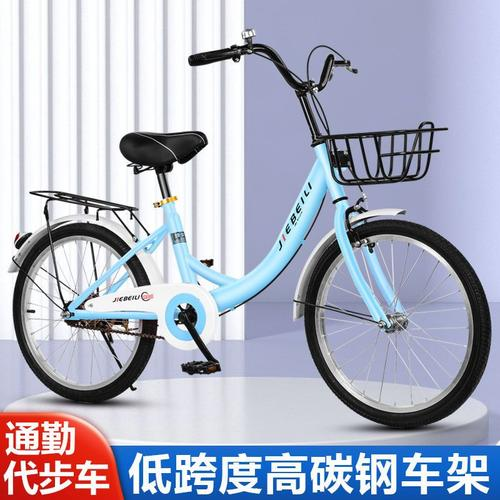单车: (6, 26, 500, 431)
